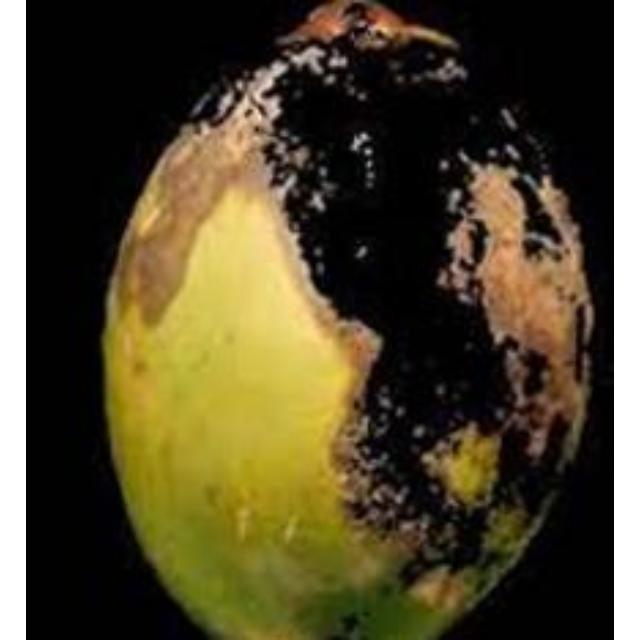damaged: (100, 0, 603, 637)
